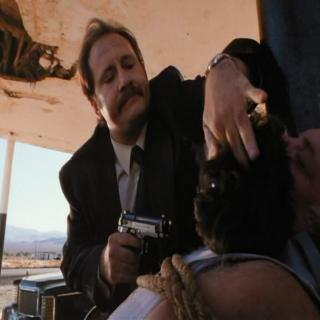gun: (102, 200, 168, 286)
